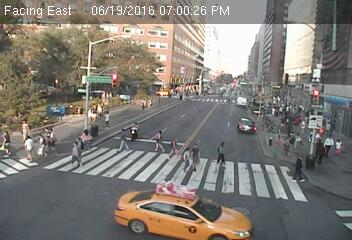neg: (50, 64, 71, 93), (106, 50, 127, 78), (67, 36, 87, 63), (150, 174, 169, 200), (181, 196, 200, 221), (133, 193, 150, 215), (127, 120, 143, 141), (54, 97, 67, 114), (155, 65, 166, 80), (264, 133, 275, 148), (181, 120, 189, 131), (131, 70, 138, 78)
pos: (208, 139, 235, 176), (287, 150, 313, 185), (112, 127, 134, 156), (150, 129, 167, 152), (168, 136, 184, 158), (101, 110, 116, 129), (334, 138, 348, 157)
